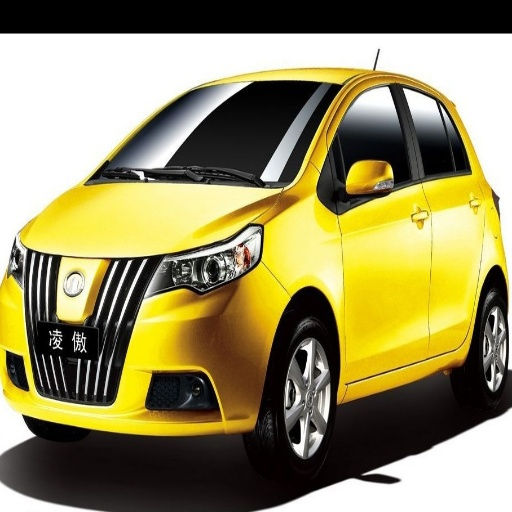front_bumper: (3, 247, 288, 431)
front_glass: (86, 82, 341, 186)
front_left_door: (326, 79, 430, 377)
